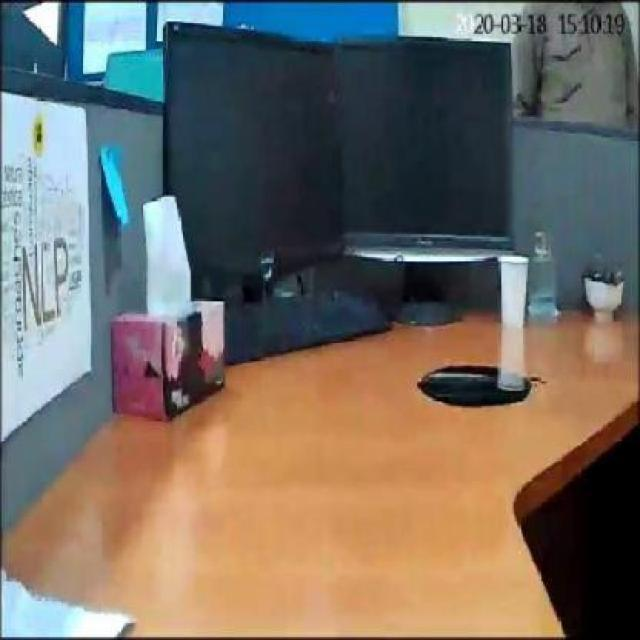spillage: (418, 366, 539, 409)
